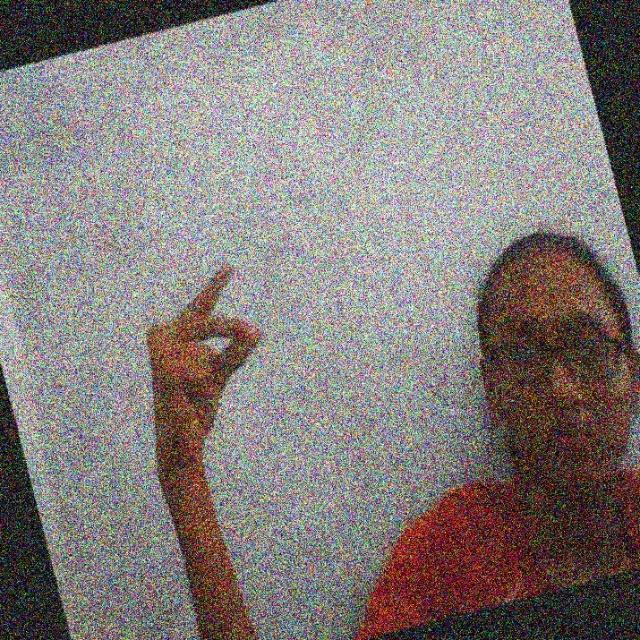R: (146, 259, 258, 441)
